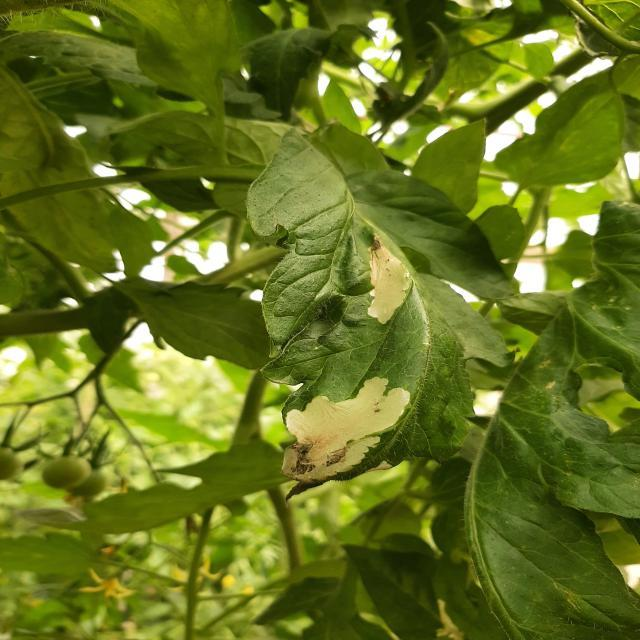Tuta absoluta: (262, 364, 427, 494), (367, 235, 411, 325)
